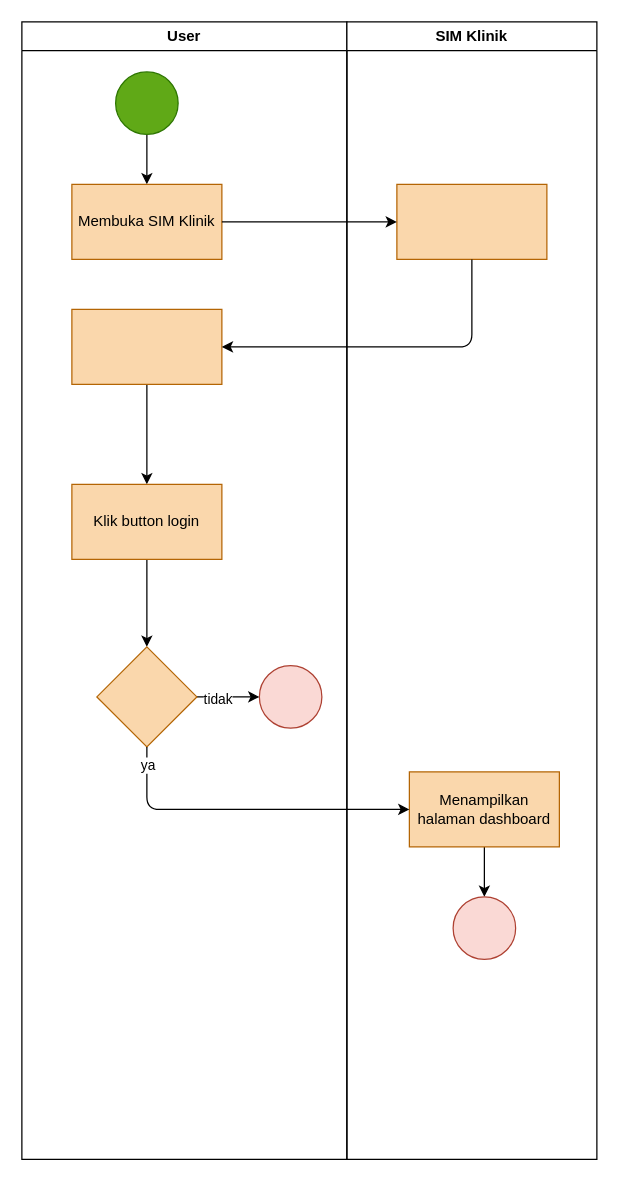
Some shapes in this 619 by 1181 pixel diagram are drawn without their labels. The centre of each missing label's shape, as x and y in pixels:
"Memasukkan NIP & Password" goes at [146,346].
"Menampilkan login page" goes at [471,221].
"NIP & Password Benar?" goes at [146,696].
